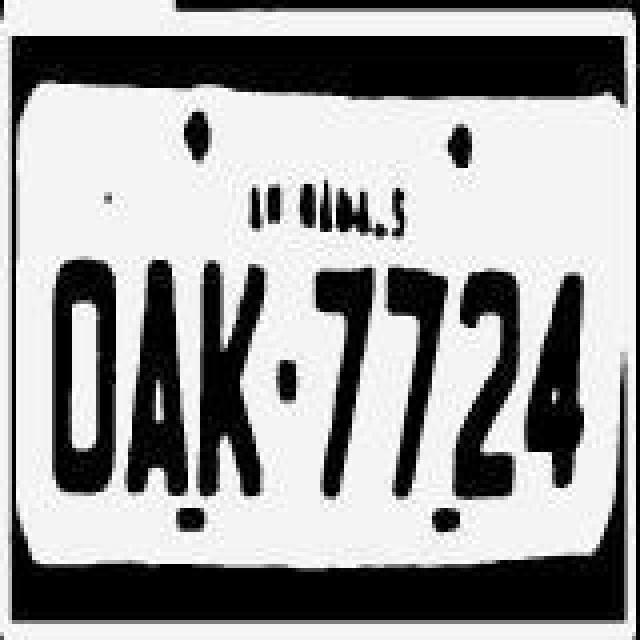2: (450, 260, 526, 508)
4: (522, 266, 590, 502)
7: (308, 264, 380, 520), (382, 254, 450, 506)
A: (122, 252, 198, 500)
K: (194, 258, 270, 510)
O: (46, 250, 122, 502)
